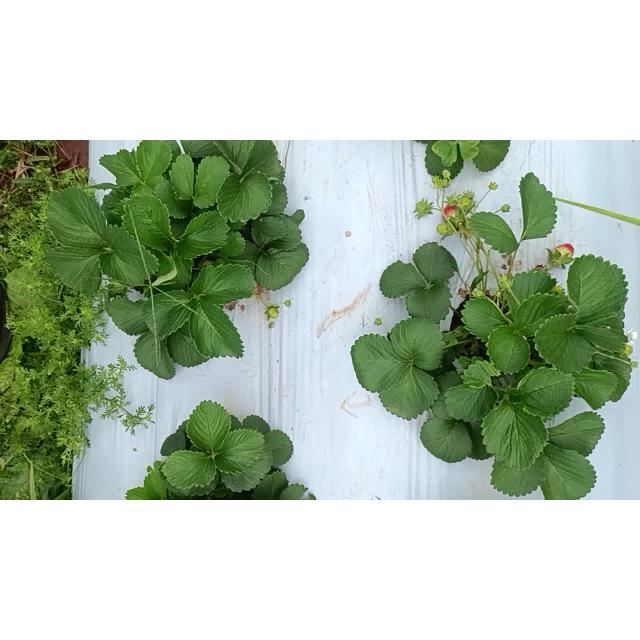semi-maduro: (552, 243, 574, 261), (442, 203, 458, 219)
